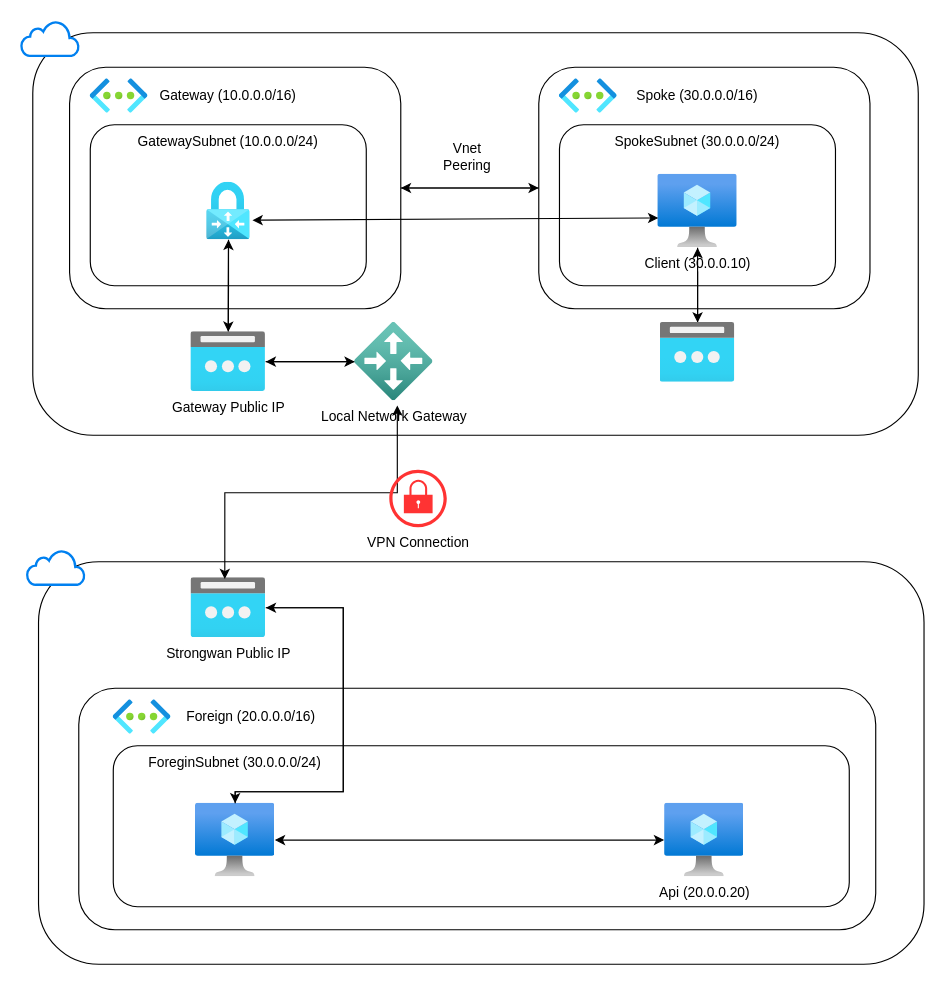
Image size: 944x984. Some labels were removed from this diagram. The shapes that lost their labels are listed below. From the top down, each one's centre as x and y in pixels, then its label:
At (x=228, y=210): "Virtual Network Gateway".
At (x=697, y=352): "Client Public IP".
At (x=234, y=839): "Strongswan (20.0.0.10)".
